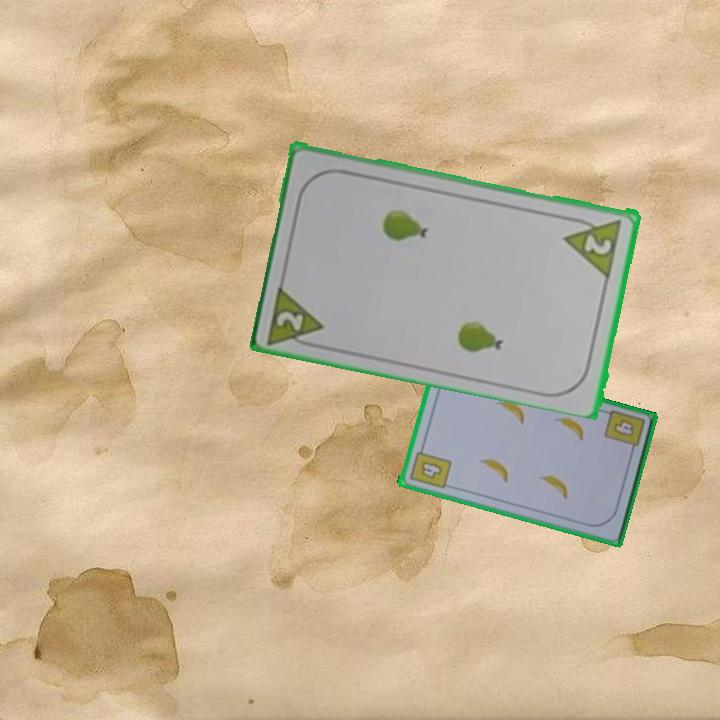2p: (264, 280, 328, 352), (561, 212, 626, 278)
4b: (405, 442, 454, 492), (609, 416, 637, 440)
